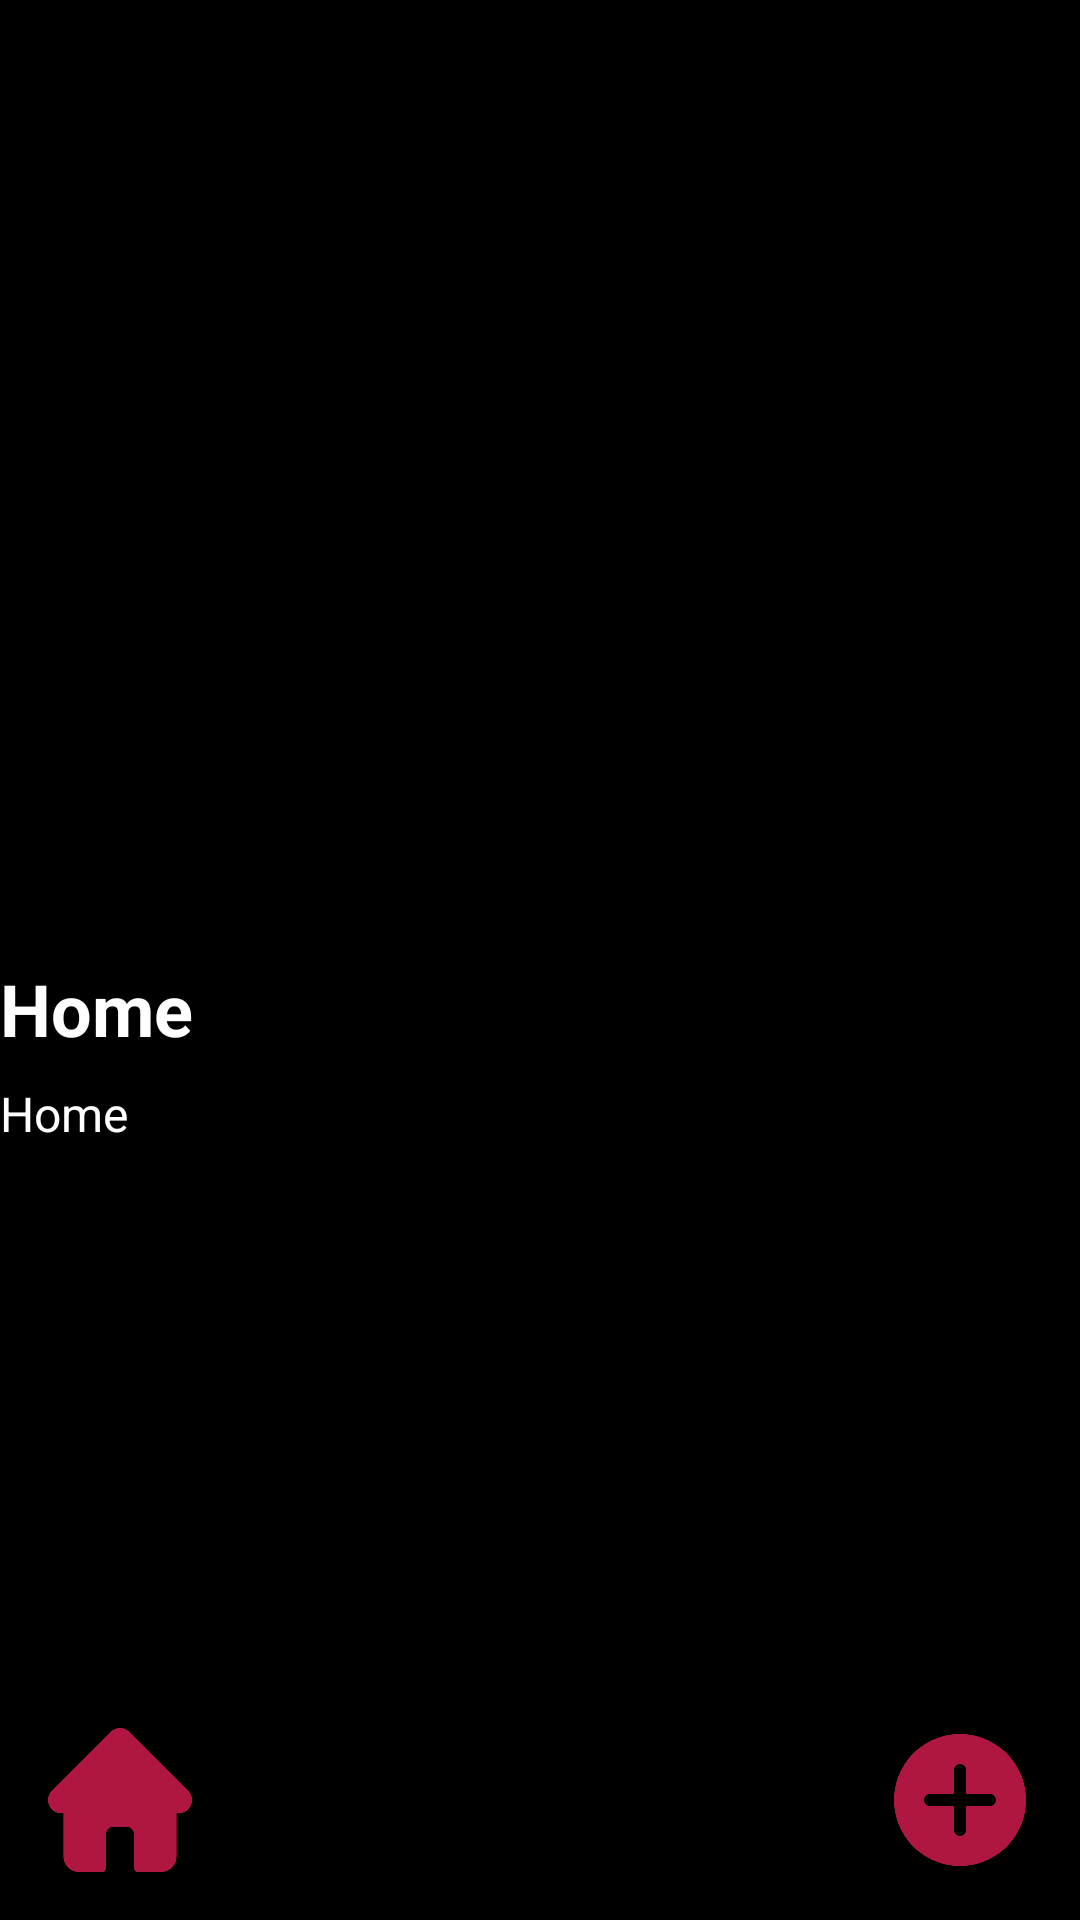

Screen size 1080w x 1920h. Icon name, then its box in pixels as region(x1, y1, x2, y2):
add: region(894, 1734, 1026, 1866)
home: region(48, 1728, 192, 1872)
